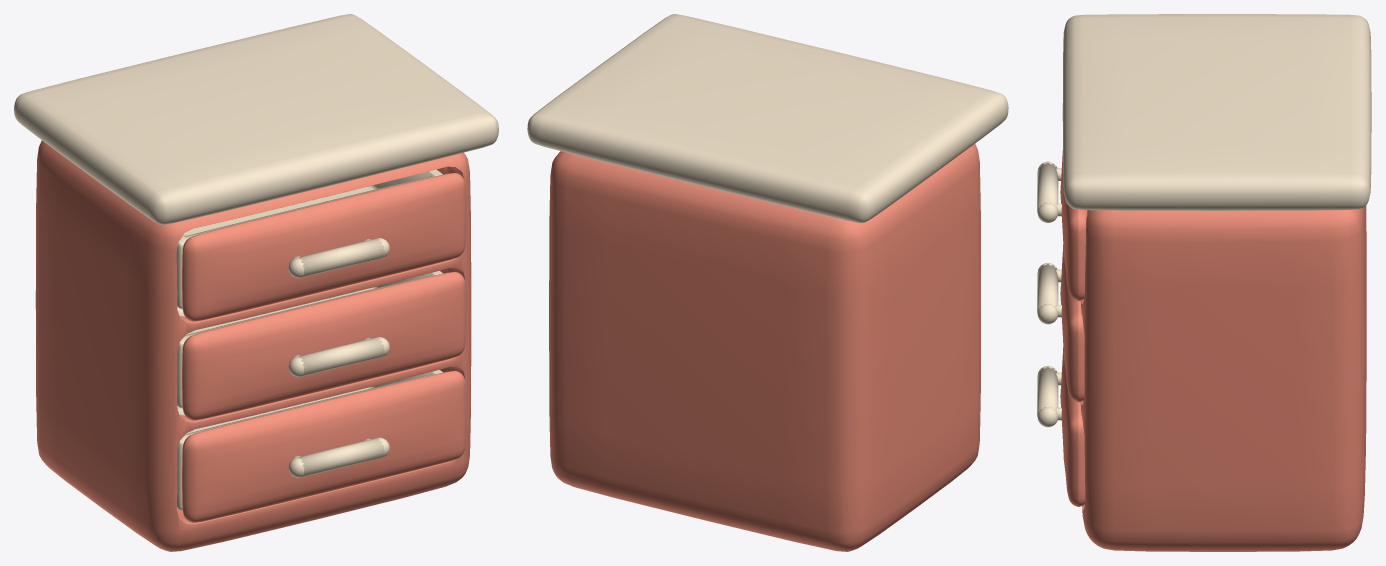
Rendered from cabinet_b.glb.
3 views of the same model, side by side, from view 1: azimuth 30°, elevation 25°; view 2: azimuth 150°, elevation 25°; view 3: azimuth 270°, elevation 25° (orthographic). The views are drawn at different scales.
Visible parts, largest first — view 1: body, drawer_3, drawer_1, drawer_2; view 2: body; view 3: body, drawer_3, drawer_2, drawer_1.
Boxes of the visible parts, x1,y1,x2,y2 form: body: (14, 14, 498, 551); drawer_3: (177, 370, 466, 522); drawer_1: (176, 169, 466, 321); drawer_2: (177, 271, 466, 420); body: (527, 14, 1008, 551); body: (1062, 14, 1371, 551); drawer_3: (1037, 347, 1085, 506); drawer_2: (1037, 245, 1084, 402); drawer_1: (1037, 150, 1087, 300).
Size of the model in its own units: 0.86 by 0.905 by 0.698.
